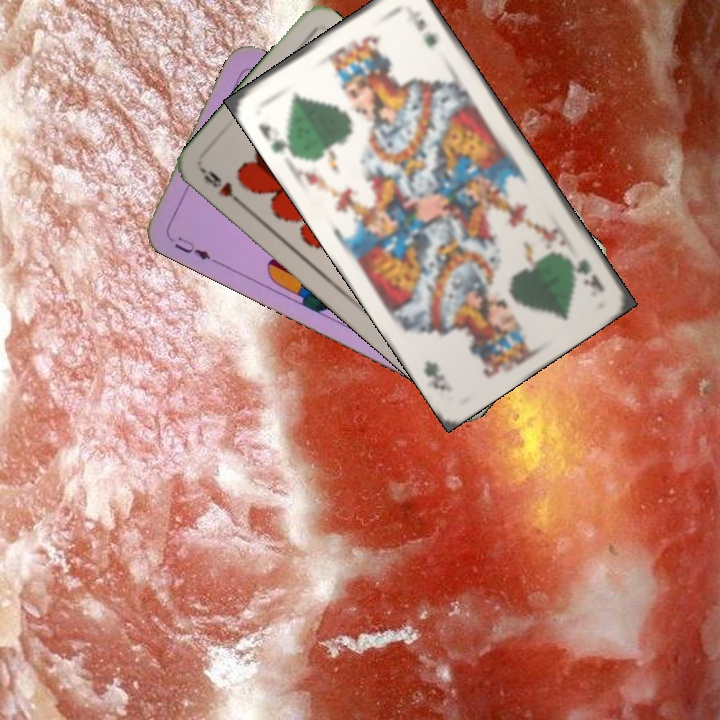EU: (164, 229, 219, 266)
GK: (561, 250, 607, 295), (255, 119, 295, 157)
H9: (197, 165, 247, 209)
